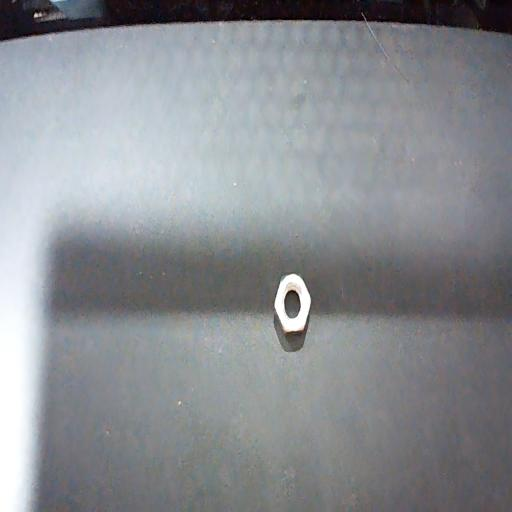nut: (272, 271, 312, 351)
